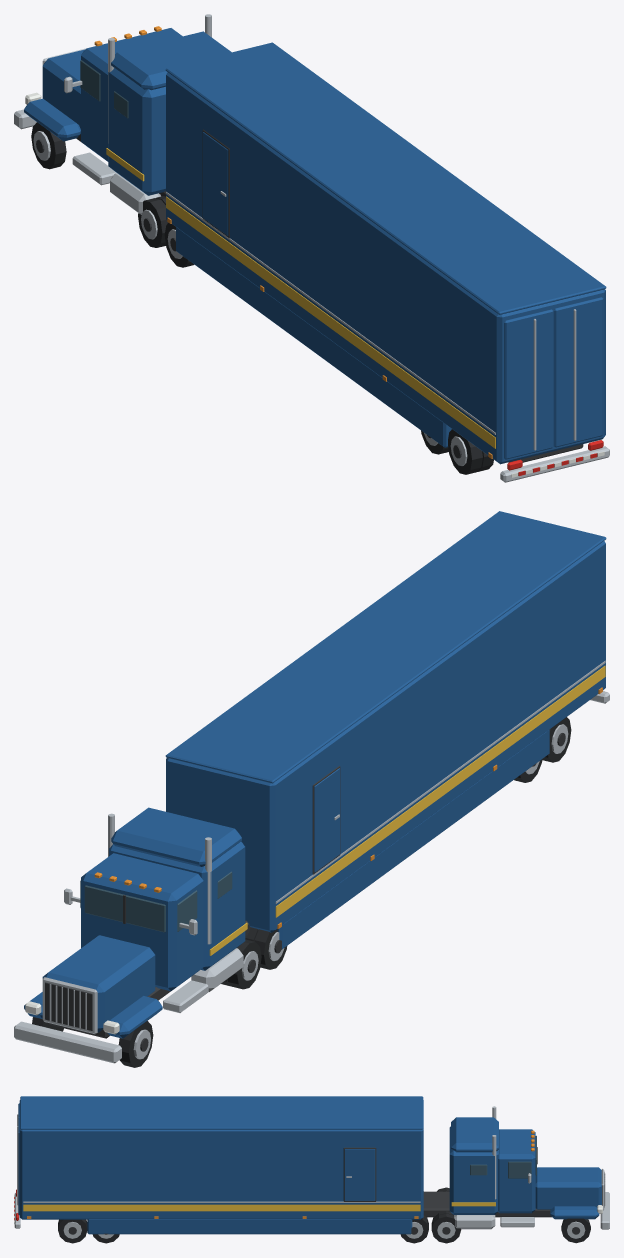
File: RaceHauler.fbx
3 renders of one model, top to bottom at view 1: azimuth 30°, elevation 25°; view 2: azimuth 150°, elevation 25°; view 3: azimuth 270°, elevation 25°, orthographic. The views are drawn at different scales.
Parts seen in each view (by area): view 1: Trailer, Tractor, Wheels; view 2: Trailer, Tractor, Wheels; view 3: Trailer, Tractor, Wheels.
Part boxes in pixels (<box>): Trailer: <box>165,42,609,482</box>; Tractor: <box>14,14,231,214</box>; Wheels: <box>31,122,493,474</box>; Trailer: <box>165,511,609,949</box>; Tractor: <box>14,807,250,1063</box>; Wheels: <box>32,717,571,1067</box>; Trailer: <box>14,1096,423,1234</box>; Tractor: <box>423,1106,609,1229</box>; Wheels: <box>58,1187,590,1243</box>.
Bounding box in the file's own units: 312 × 435 × 2013.
